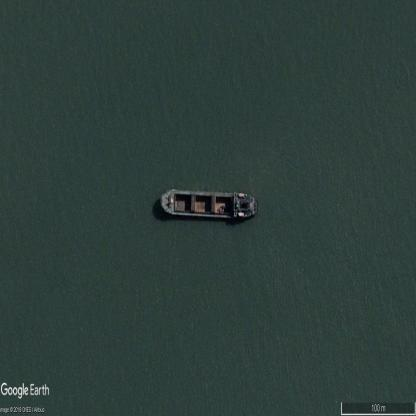ship: (160, 190, 258, 221)
